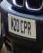C: (20, 19, 24, 33)
P: (23, 20, 28, 34)
R: (27, 21, 32, 36)
